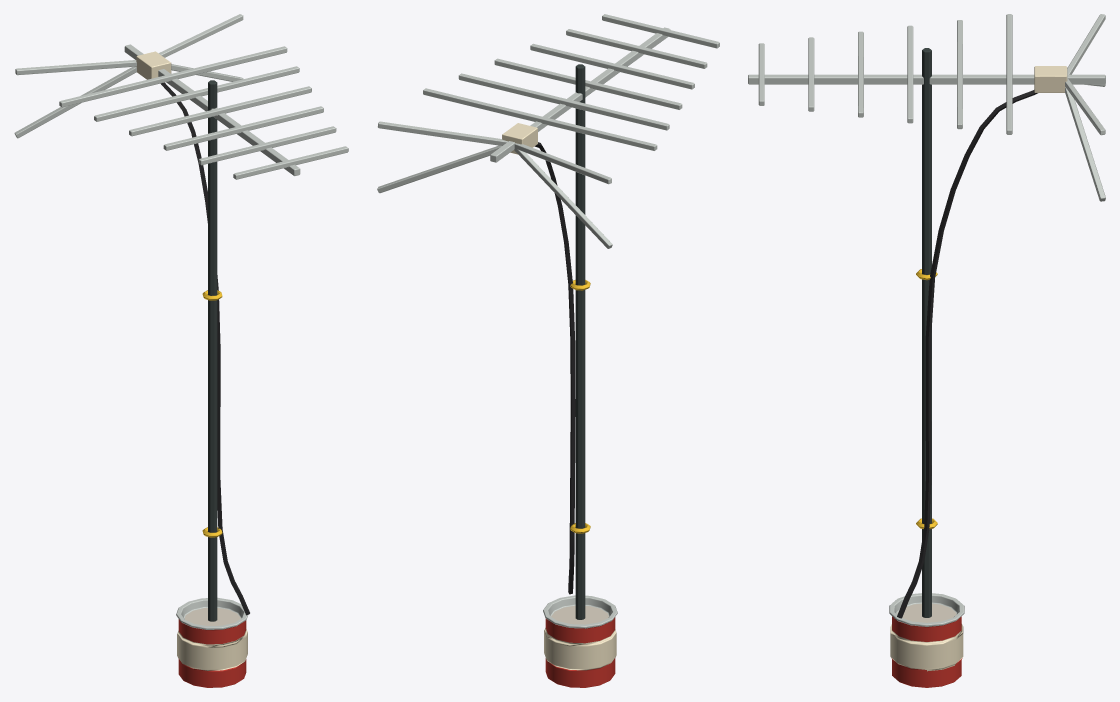
Rendered from prop_antenna.glb.
The picture shows the model from 3 angles, left to right: view 1: azimuth 30°, elevation 25°; view 2: azimuth 150°, elevation 25°; view 3: azimuth 270°, elevation 25°; orthographic projection. The views are drawn at different scales.
Visible parts, largest first — view 1: prop_antenna; view 2: prop_antenna; view 3: prop_antenna.
Part boxes in pixels (x1,y1,x2,y2): prop_antenna: [14, 14, 348, 687]; prop_antenna: [377, 14, 719, 687]; prop_antenna: [748, 14, 1105, 687].
Bounding box in the file's own units: 1.01 × 2.5 × 1.3.
